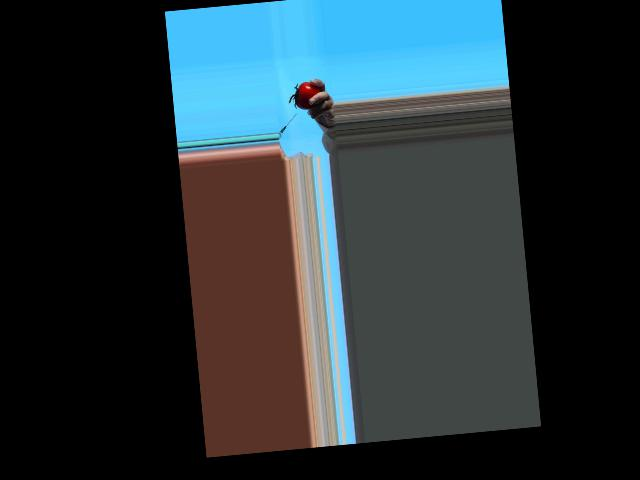tomato: (293, 80, 323, 110)
